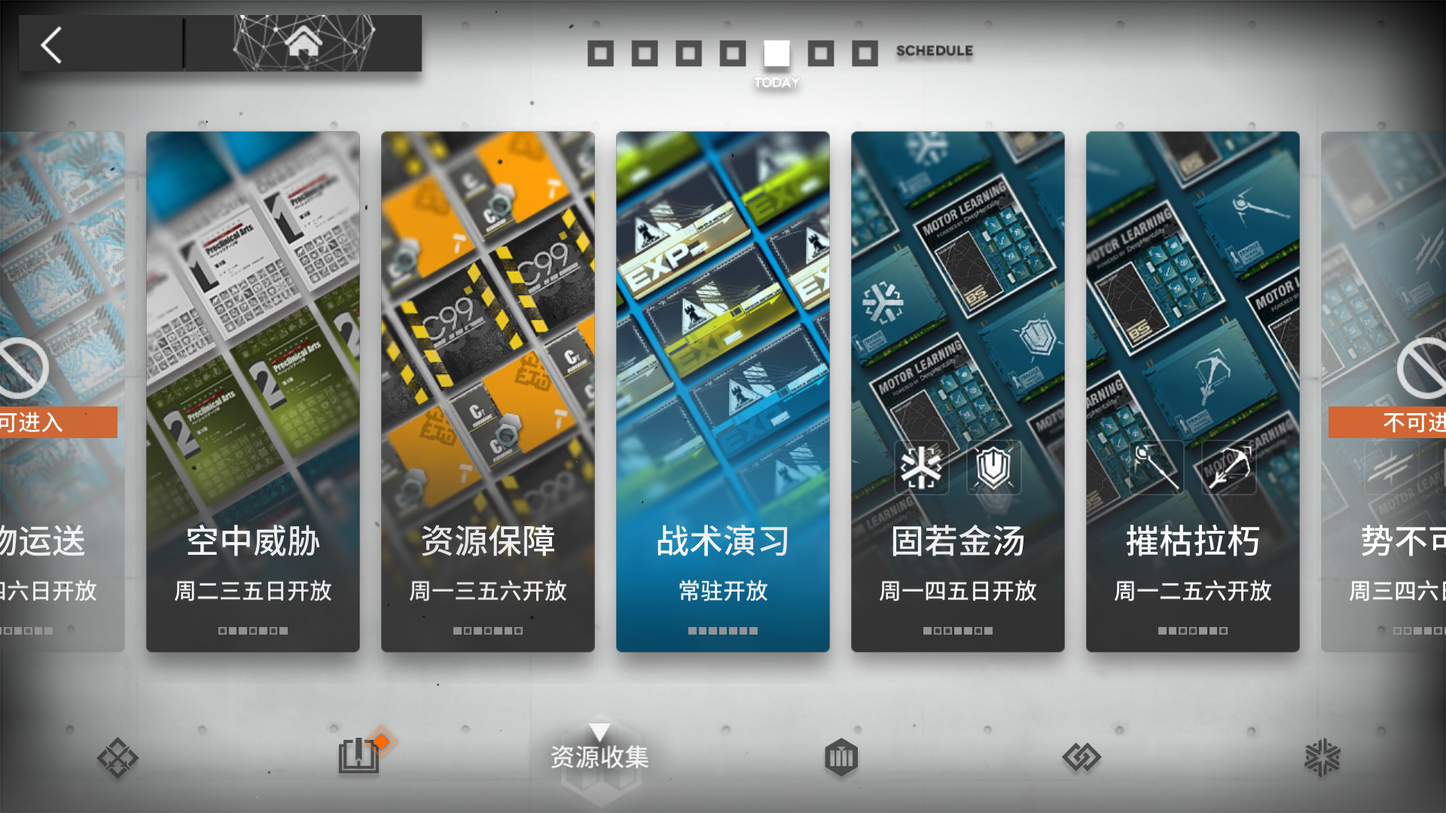Return_Button: (25, 21, 182, 67)
tactical_maneuver_button: (624, 134, 809, 654)
